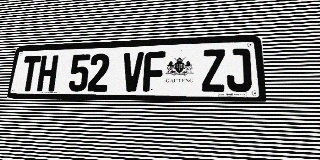2: (87, 53, 110, 92)
5: (68, 54, 91, 92)
F: (143, 51, 166, 92)
H: (36, 55, 59, 92)
J: (226, 48, 252, 92)
T: (19, 56, 41, 91)
V: (121, 52, 144, 92)
Z: (202, 49, 226, 92)
